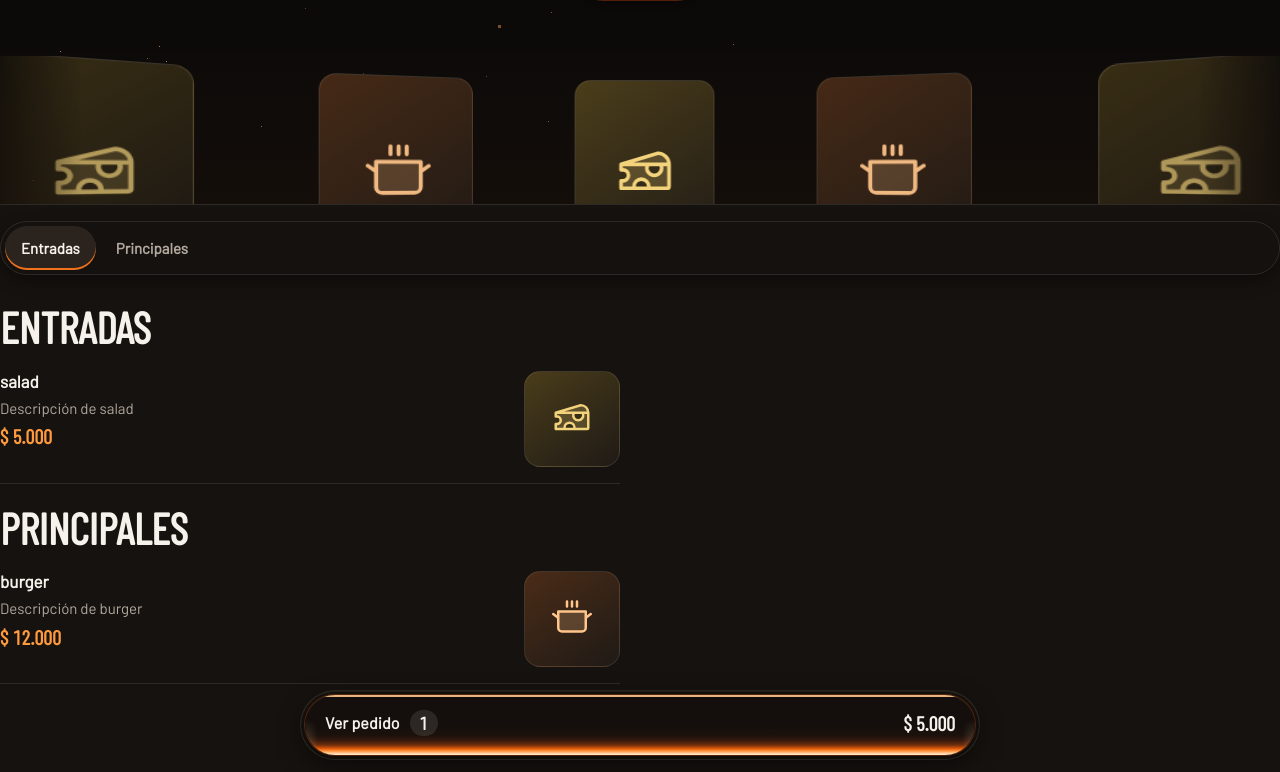
Test: MenuScreen con el pedido en curso (T8) › con un envío sin resolver el pedido no se puede modificar (RF26) › el resumen muestra el error y "Reintentar" / "Editar pedido" desde el primer momento (recarga con intento pendiente)
(page scrolled)
Check: the button "salad Descripción de salad $ 5.000" is shown, box 0,355 -> 620,483
Click the button "Ver pedido 1 $ 5.000" at coordinates (362, 722), box 305,695 -> 975,755
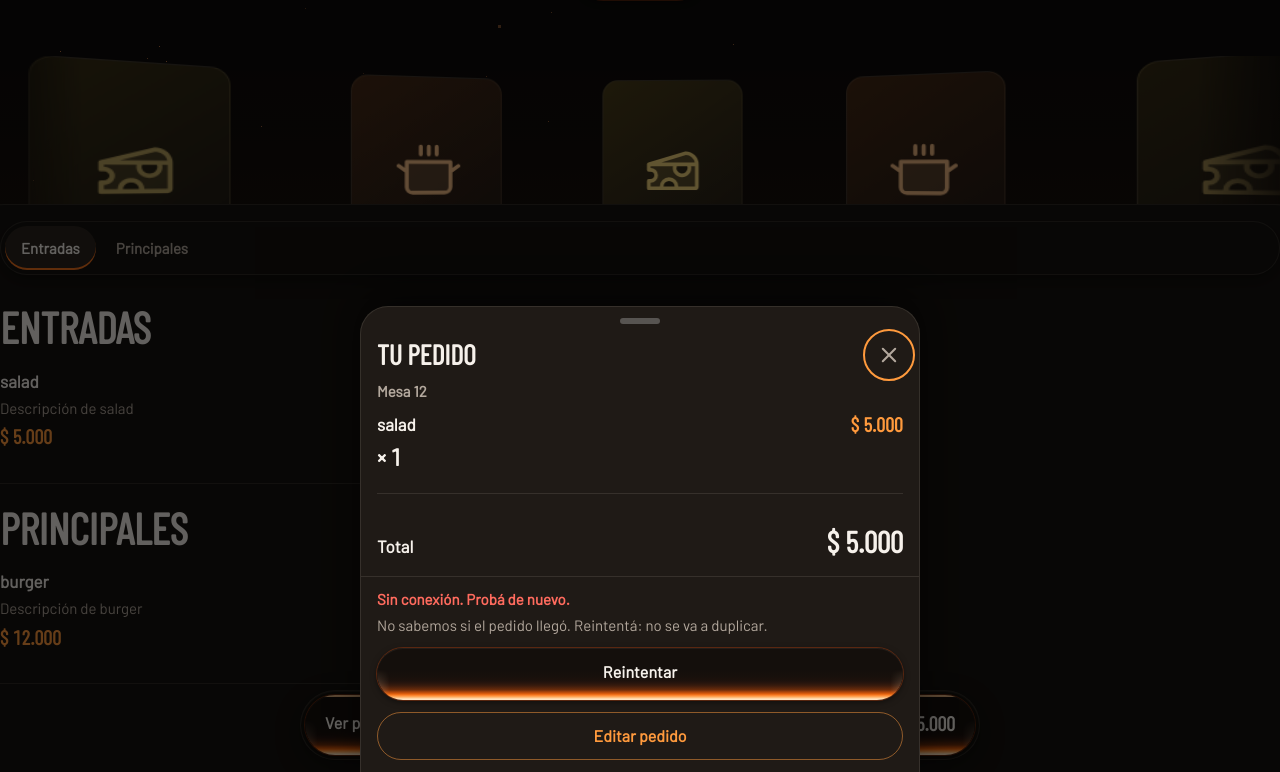
Check: the button "Reintentar" is shown, box 377,648 -> 903,700
Check: the button "Editar pedido" is shown, box 377,712 -> 903,760
